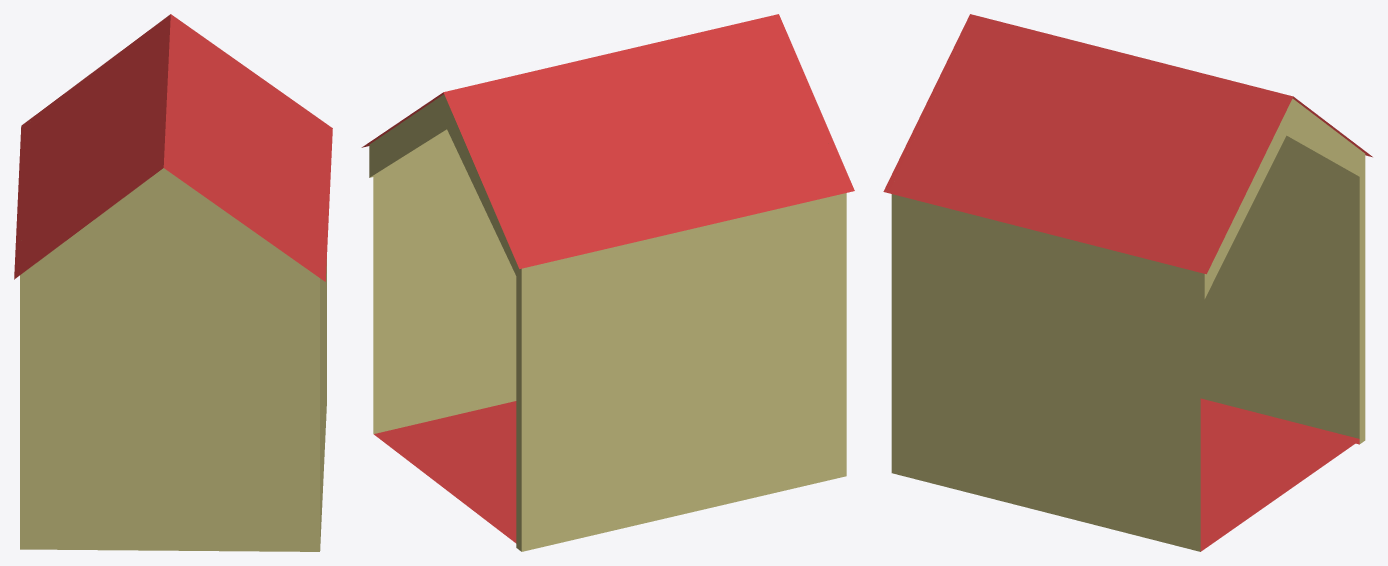
3 renders of one model, left to right at view 1: azimuth 30°, elevation 25°; view 2: azimuth 150°, elevation 25°; view 3: azimuth 270°, elevation 25°, orthographic. The views are drawn at different scales.
Parts seen in each view (by area): view 1: group_5, group_3, group_4; view 2: group_5, group_3, group_6, group_4; view 3: group_5, group_3, group_6, group_4.
Part boxes in pixels (<box>): group_5: <box>20,168,326,551</box>; group_3: <box>20,14,326,275</box>; group_4: <box>14,14,332,281</box>; group_5: <box>369,94,846,551</box>; group_3: <box>361,14,846,260</box>; group_6: <box>374,401,516,543</box>; group_4: <box>444,16,854,268</box>; group_5: <box>891,98,1365,551</box>; group_3: <box>891,15,1372,266</box>; group_6: <box>1200,398,1359,551</box>; group_4: <box>883,14,1306,274</box>.
Bounding box in the file's own units: 19.81 × 20.59 × 18.5.
